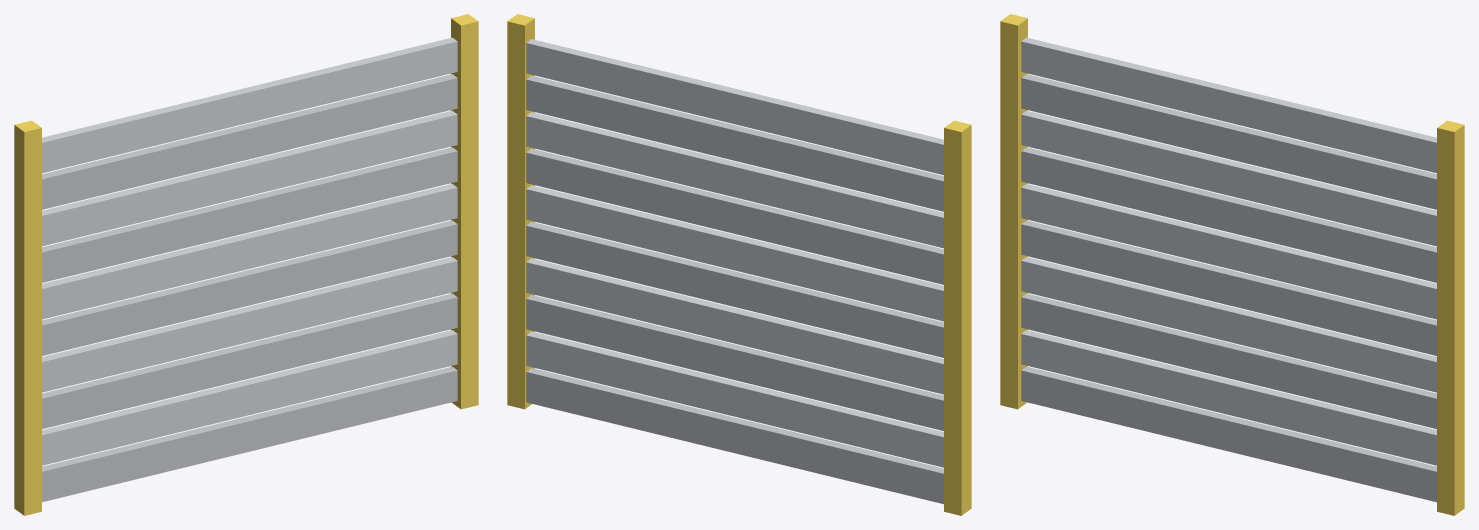
The model's file is workshop_door.glb.
3 renders of one model, left to right at view 1: azimuth 30°, elevation 25°; view 2: azimuth 150°, elevation 25°; view 3: azimuth 330°, elevation 25°, orthographic.
Parts seen in each view (by area): view 1: workshop_door; view 2: workshop_door; view 3: workshop_door.
Part boxes in pixels (<box>): workshop_door: <box>14,14,478,515</box>; workshop_door: <box>507,14,971,515</box>; workshop_door: <box>1000,14,1464,515</box>.
Size of the model in its own units: 3.9 by 3.15 by 0.15.
